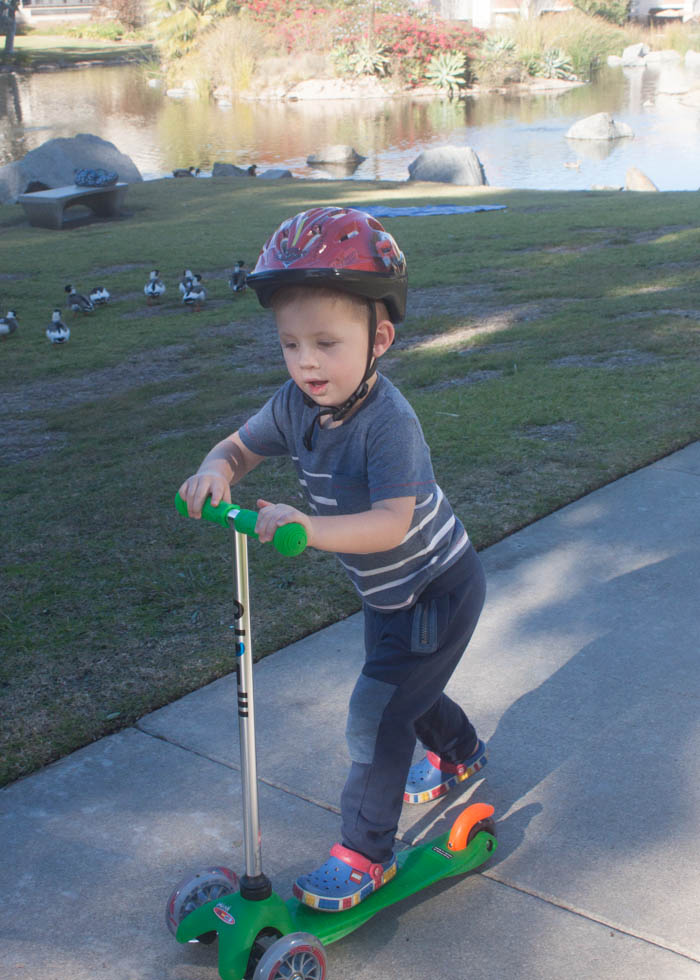scooter: (163, 482, 500, 980)
with helmet: (249, 203, 411, 408)
